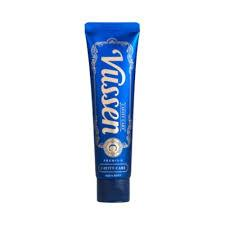toothpaste: (83, 22, 140, 206)
